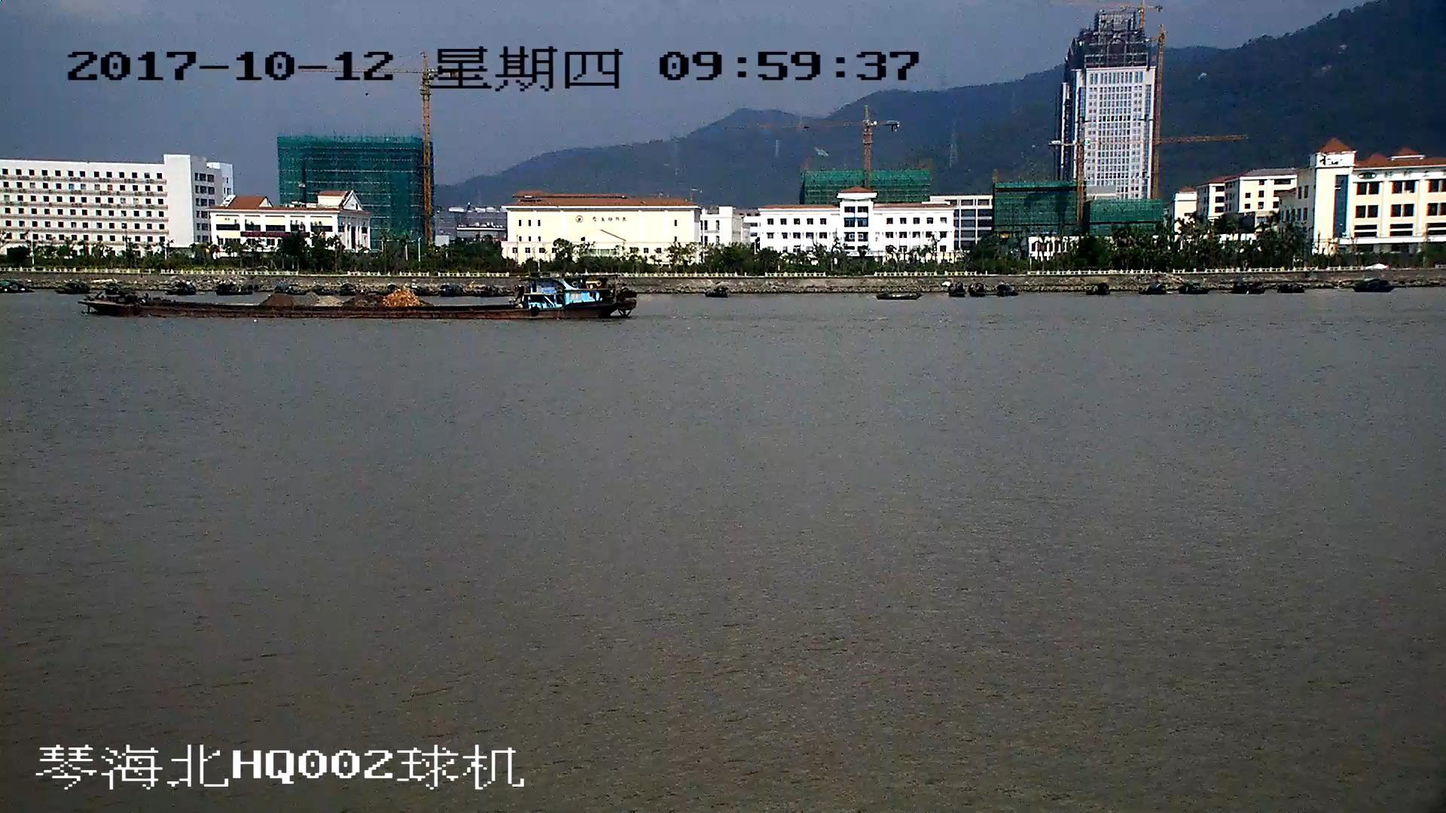ore carrier: (87, 271, 633, 318)
